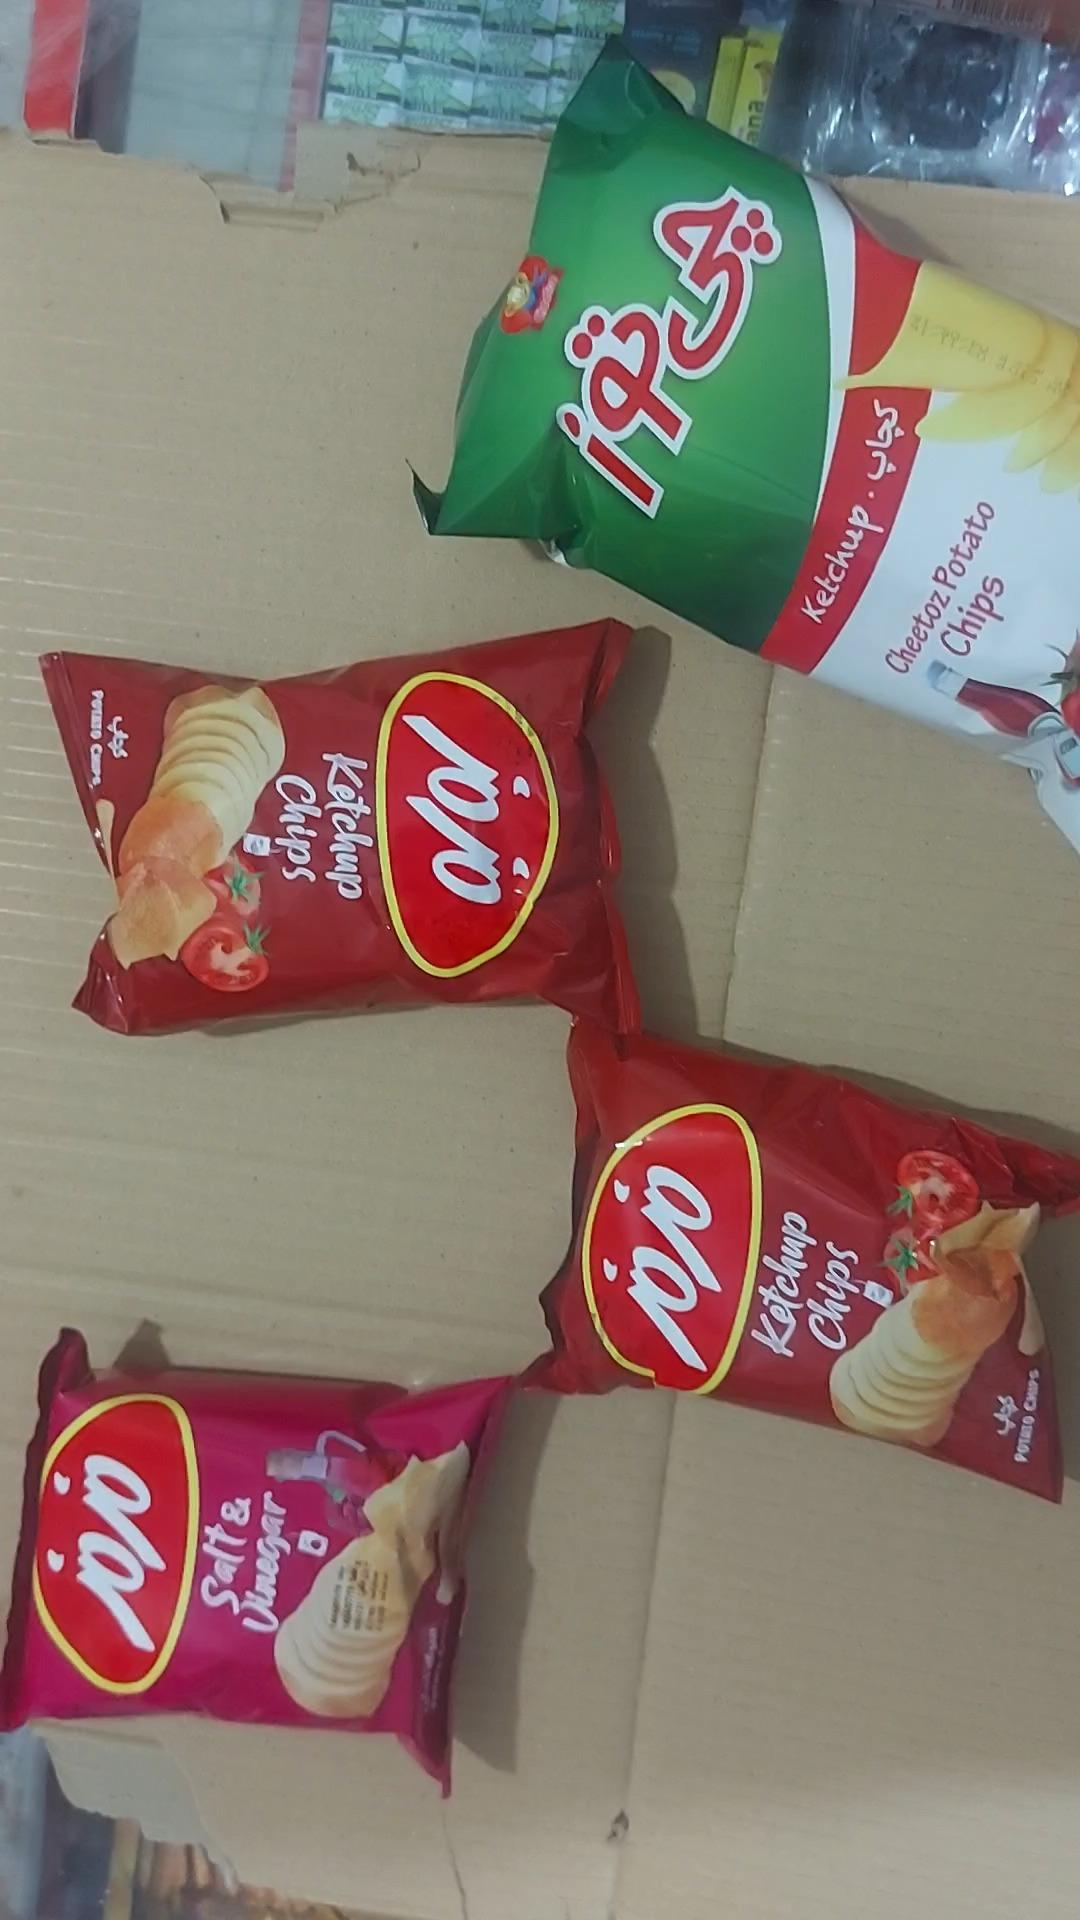Cheetoz ketchup chips: (409, 40, 1079, 862)
Maz Maz ketchup chips: (516, 1021, 1079, 1505), (40, 618, 633, 1038)
Maz Maz vinegar chips: (0, 1331, 512, 1795)
